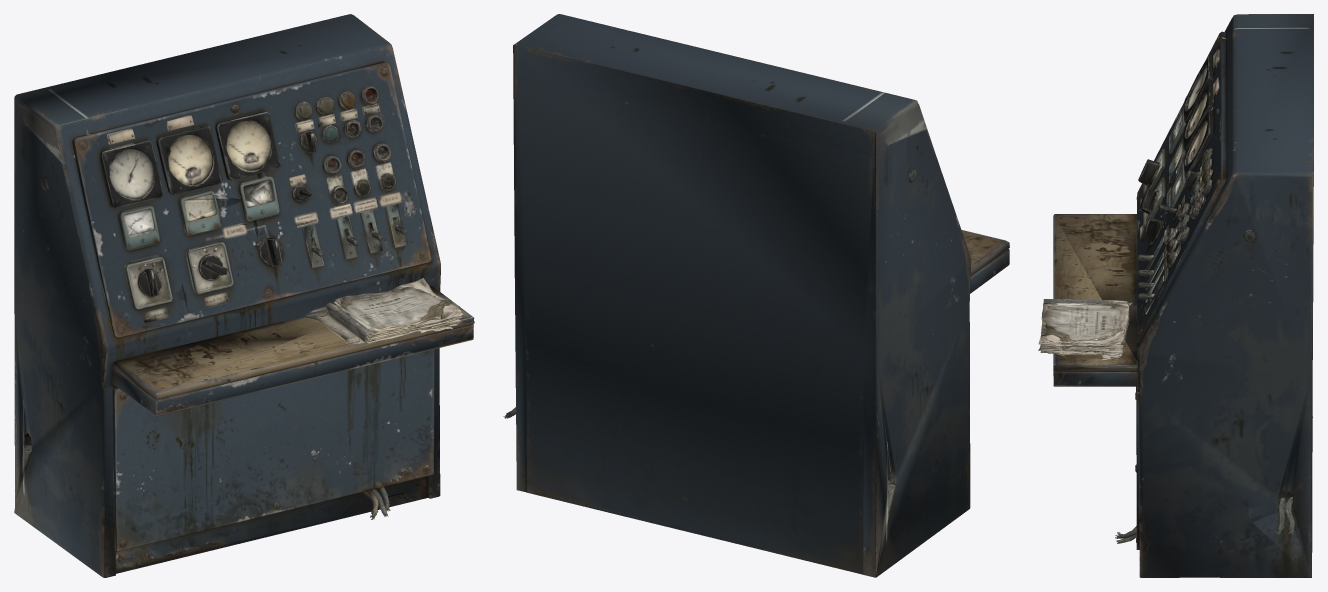
File: silo81_control_panel.glb
The picture shows the model from 3 angles, left to right: view 1: azimuth 30°, elevation 25°; view 2: azimuth 150°, elevation 25°; view 3: azimuth 270°, elevation 25°; orthographic projection. The views are drawn at different scales.
Bounding box in the file's own units: 0.8652 × 0.9541 × 0.5879.
Materials: 1 (1 with a texture image).
